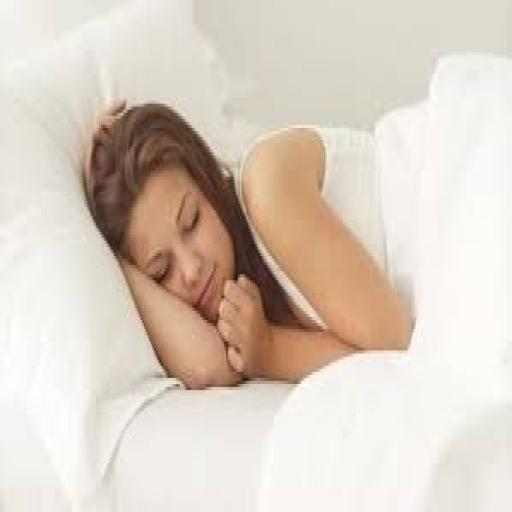sleeping: (80, 95, 412, 390)
